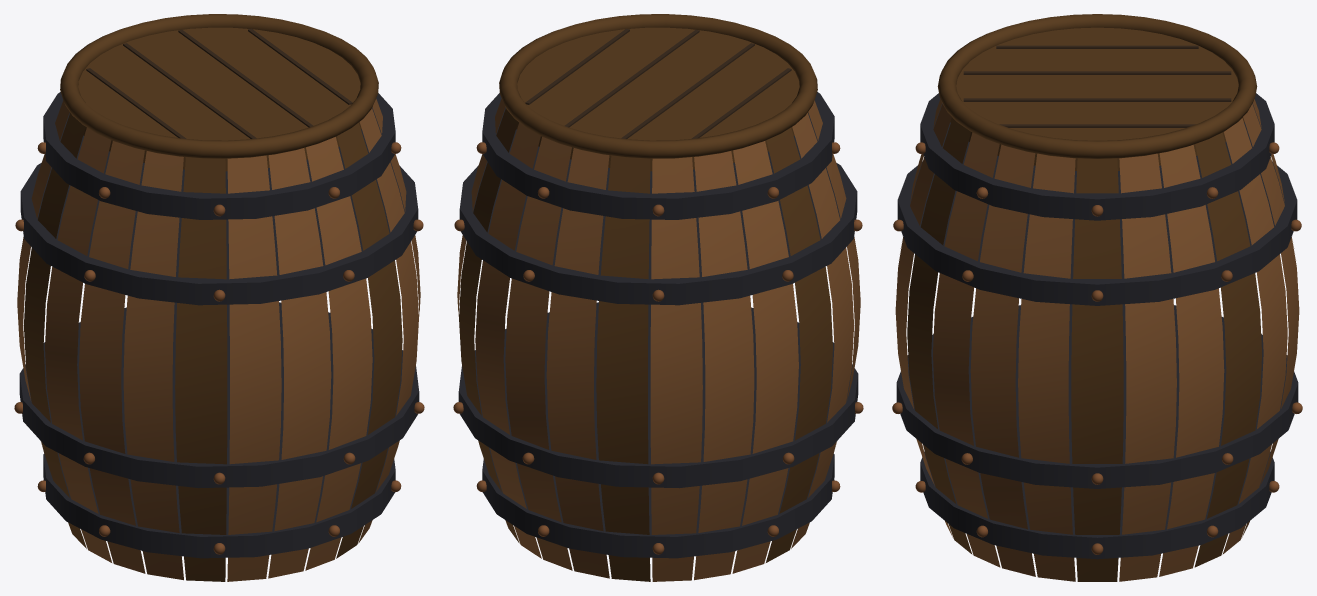
File: mia-barrel.glb
3 views of the same model, side by side, from view 1: azimuth 30°, elevation 25°; view 2: azimuth 150°, elevation 25°; view 3: azimuth 270°, elevation 25° (orthographic).
Parts seen in each view (by area): view 1: Body_oak, Body_wood, Body_iron, Body_grain, Body_rust; view 2: Body_oak, Body_wood, Body_iron, Body_grain, Body_rust; view 3: Body_oak, Body_wood, Body_iron, Body_grain, Body_rust.
Boxes of the visible parts, x1,y1,x2,y2 form: Body_oak: [17, 99, 420, 581]; Body_wood: [24, 14, 402, 581]; Body_iron: [19, 92, 419, 558]; Body_grain: [86, 28, 352, 138]; Body_rust: [14, 142, 424, 554]; Body_oak: [457, 99, 860, 581]; Body_wood: [459, 14, 832, 581]; Body_iron: [458, 92, 858, 558]; Body_grain: [525, 28, 791, 138]; Body_rust: [453, 142, 863, 554]; Body_oak: [895, 99, 1299, 581]; Body_wood: [907, 14, 1261, 581]; Body_iron: [896, 93, 1298, 559]; Body_grain: [963, 45, 1231, 127]; Body_rust: [892, 142, 1302, 554].
Size of the model in its own units: 0.8359 by 0.9877 by 0.8353.
